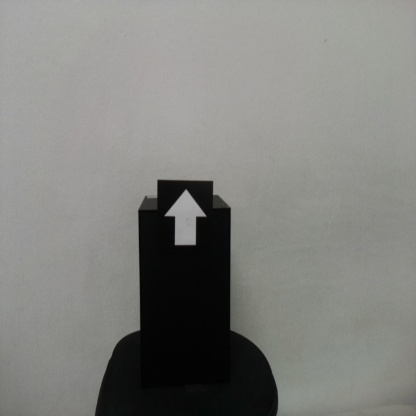id_1: (157, 181, 213, 259)
